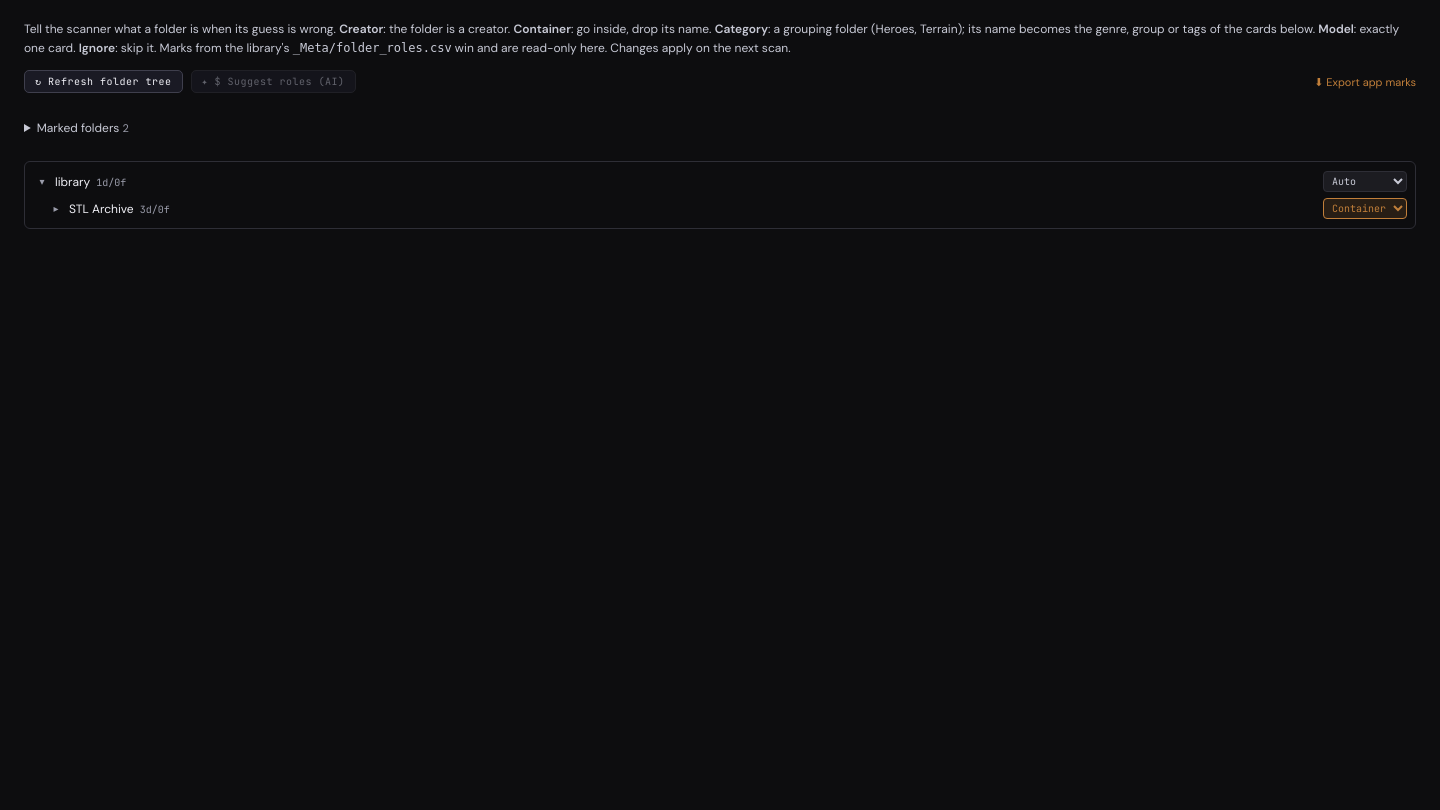
Test case: Folder Roles panel › after a change: Rescan now starts a scan; marked folders and _Meta warnings are listed; export link
Click the button named "Expand STL Archive".
click(56, 209)  # box [49,203,63,214]
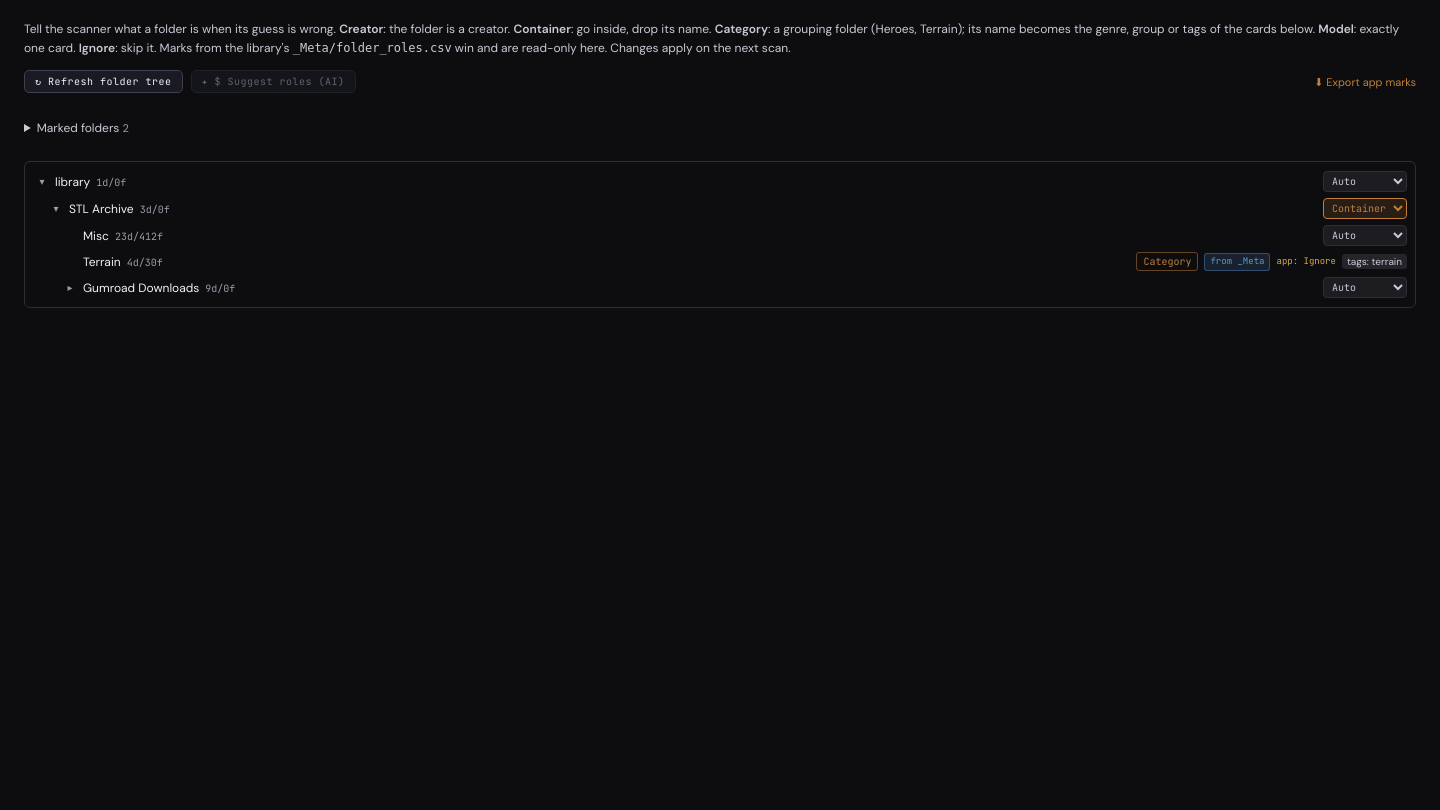
Select "Ignore" in the dropdown named "Role for Misc" at (1365, 236), box [1323,225,1407,246]
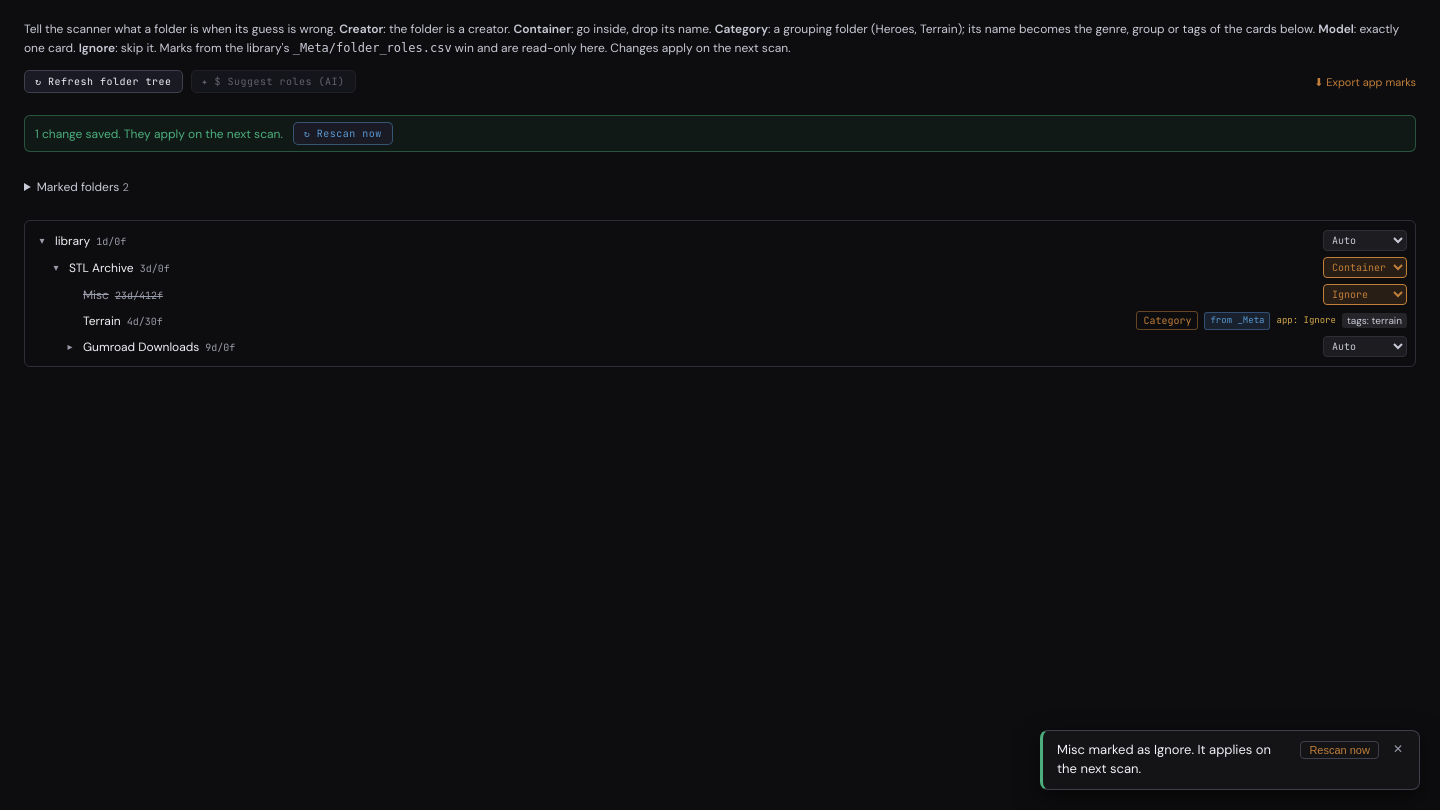
Click the button "↻ Rescan now".
click(343, 134)  # box [293,122,393,145]
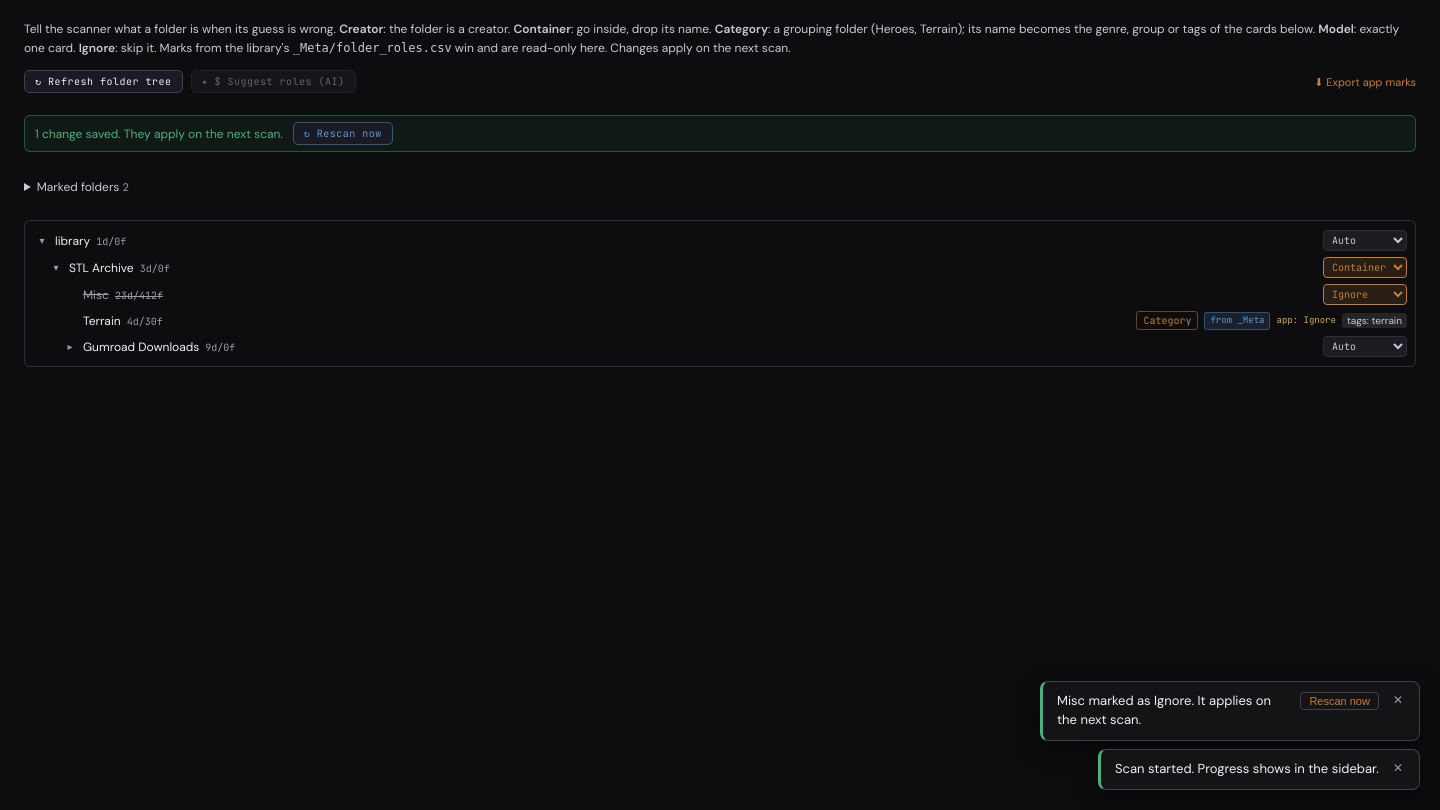
Check: the heading "Marked folders 2" is shown, box [37,179,129,195]
Check: the text "Scan started. Progress shows in the sidebar." is shown, box [1115,760,1379,779]
